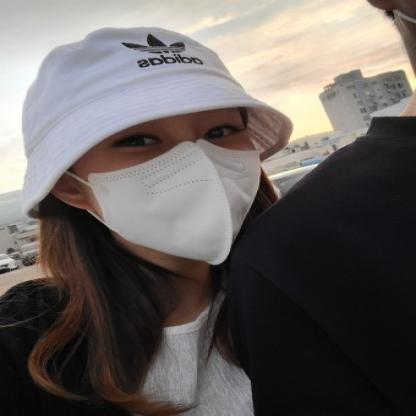hat: (15, 24, 294, 220)
